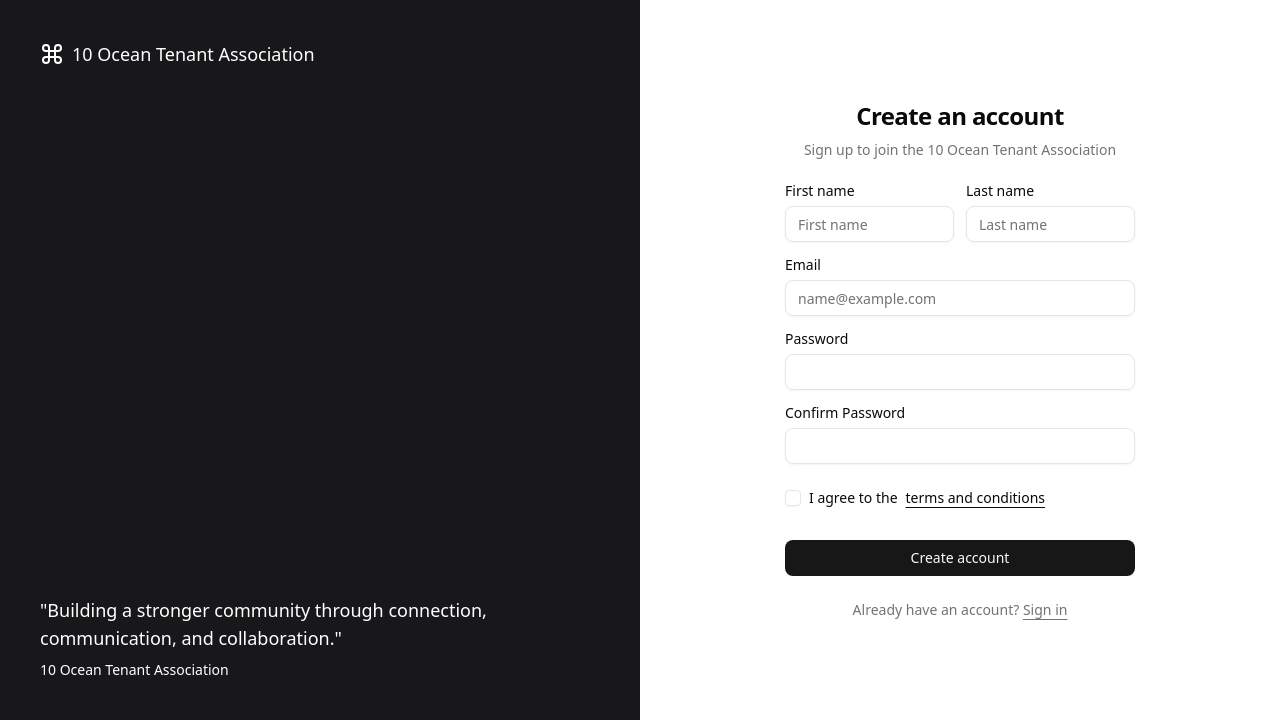
Test: RegisterPage › displays an error message when registration fails
Note: Fill in all required fields
Type "John" into the field labelled "First name". click: [870, 224]
box: [785,206,954,242]
Type "Doe" into the field labelled "Last name". click: [1050, 224]
box: [966,206,1135,242]
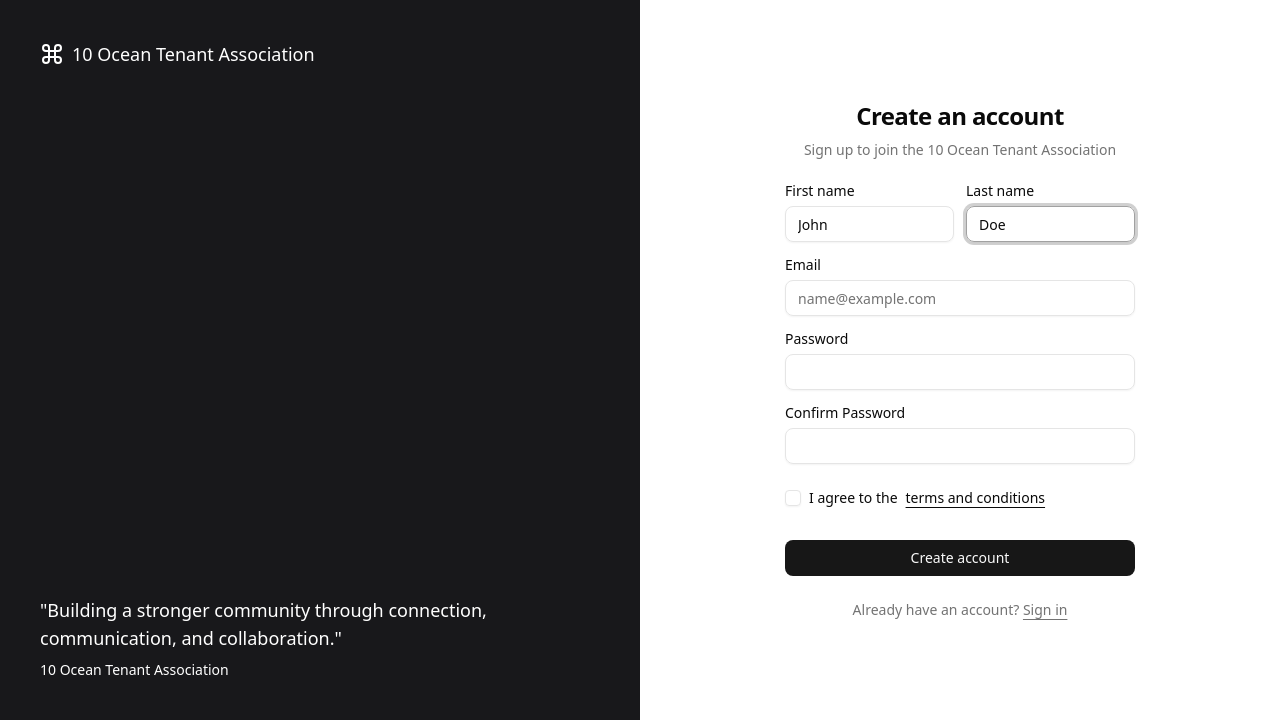
Type "existing@example.com" into the field labelled "Email". click: [960, 298]
box: [785,280,1135,316]
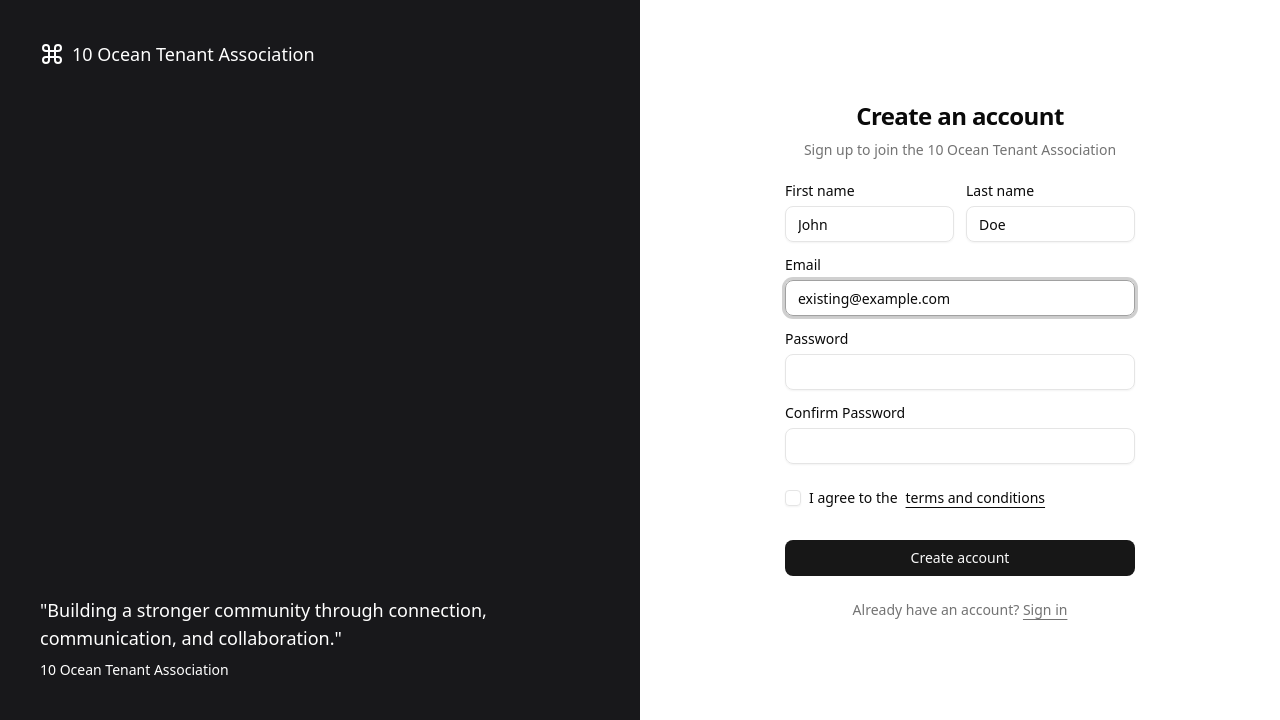
Type "Password123" into the password field with test id "password-field". click: [960, 372]
box: [785,354,1135,390]
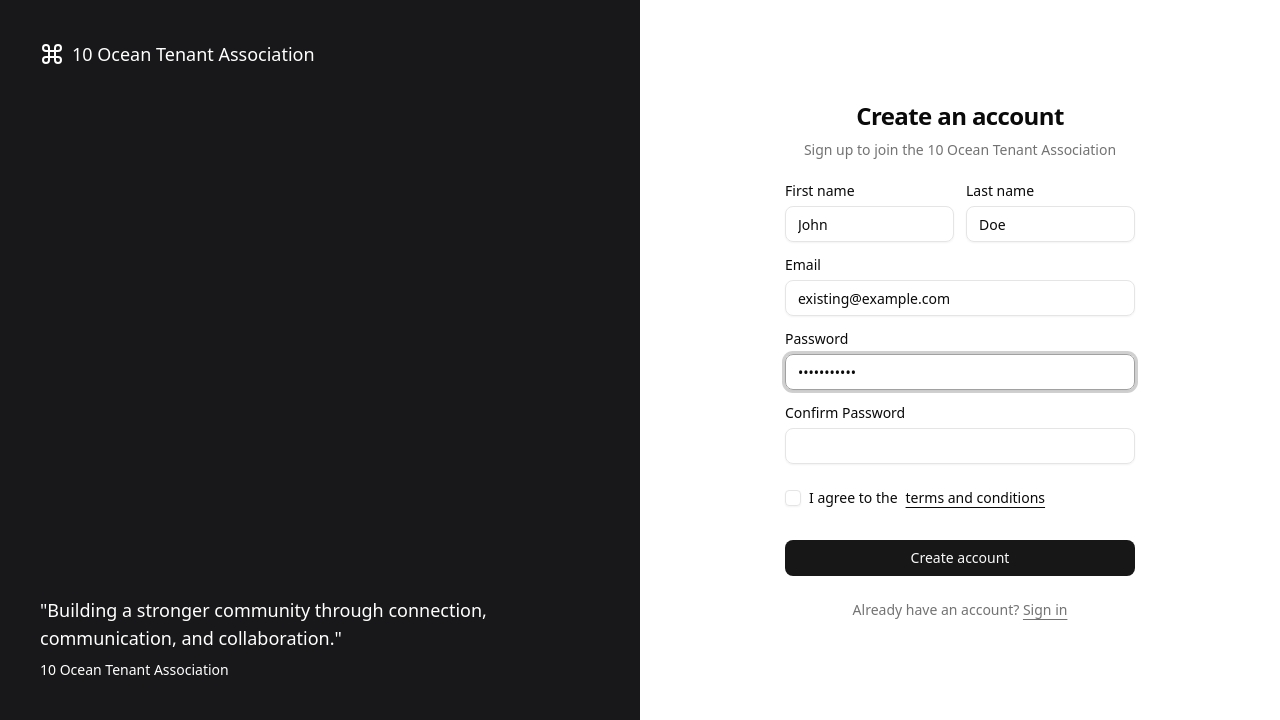
Type "Password123" into the password field with test id "confirm-password-field". click: [960, 446]
box: [785,428,1135,464]
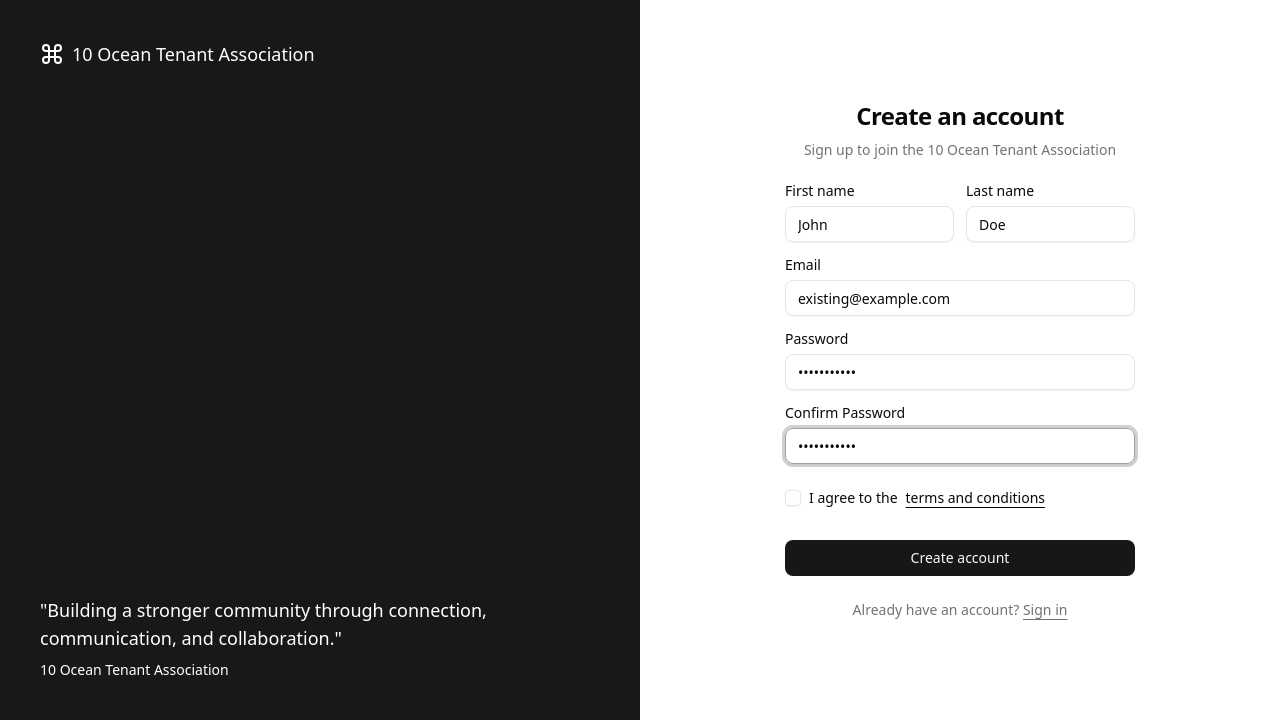
Click the checkbox named "I agree to the terms and conditions". click: [793, 498]
box: [785,490,801,506]
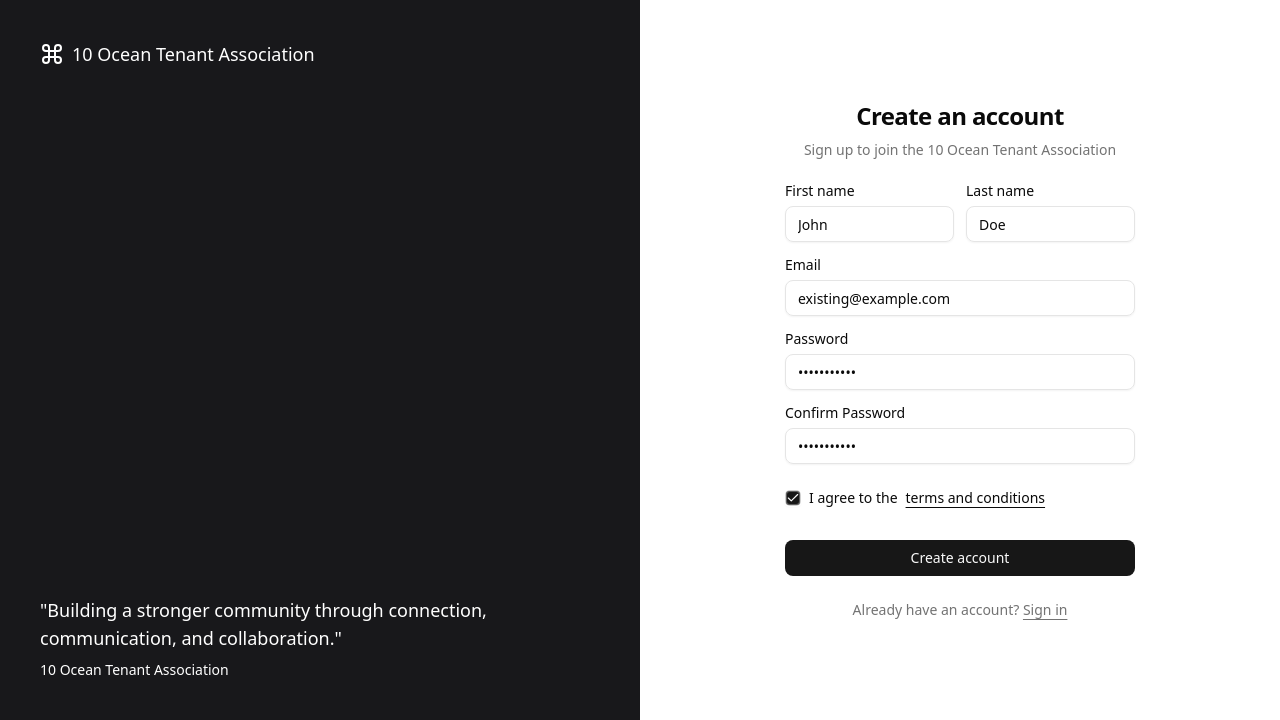
Note: Submit the form
Click the button "Create account". click: [960, 558]
box: [785,540,1135,576]
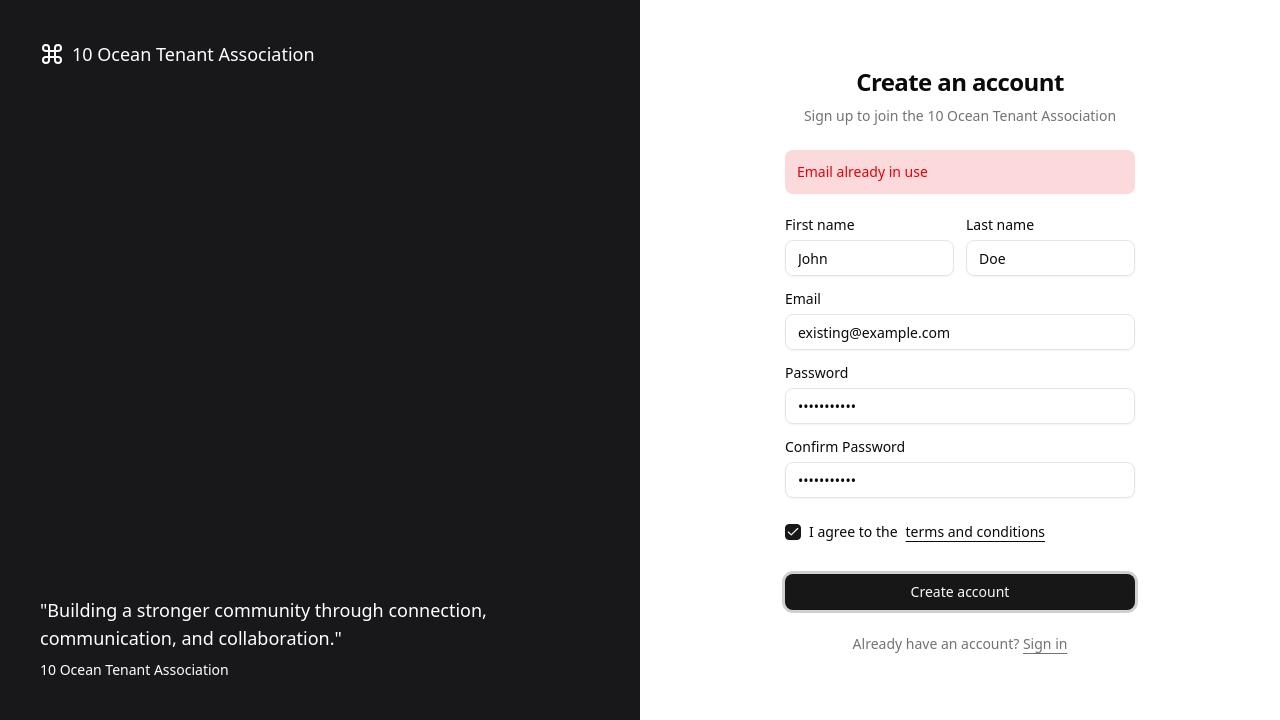
expect the text "Email already in use" is shown: met, box [785,150,1135,194]
